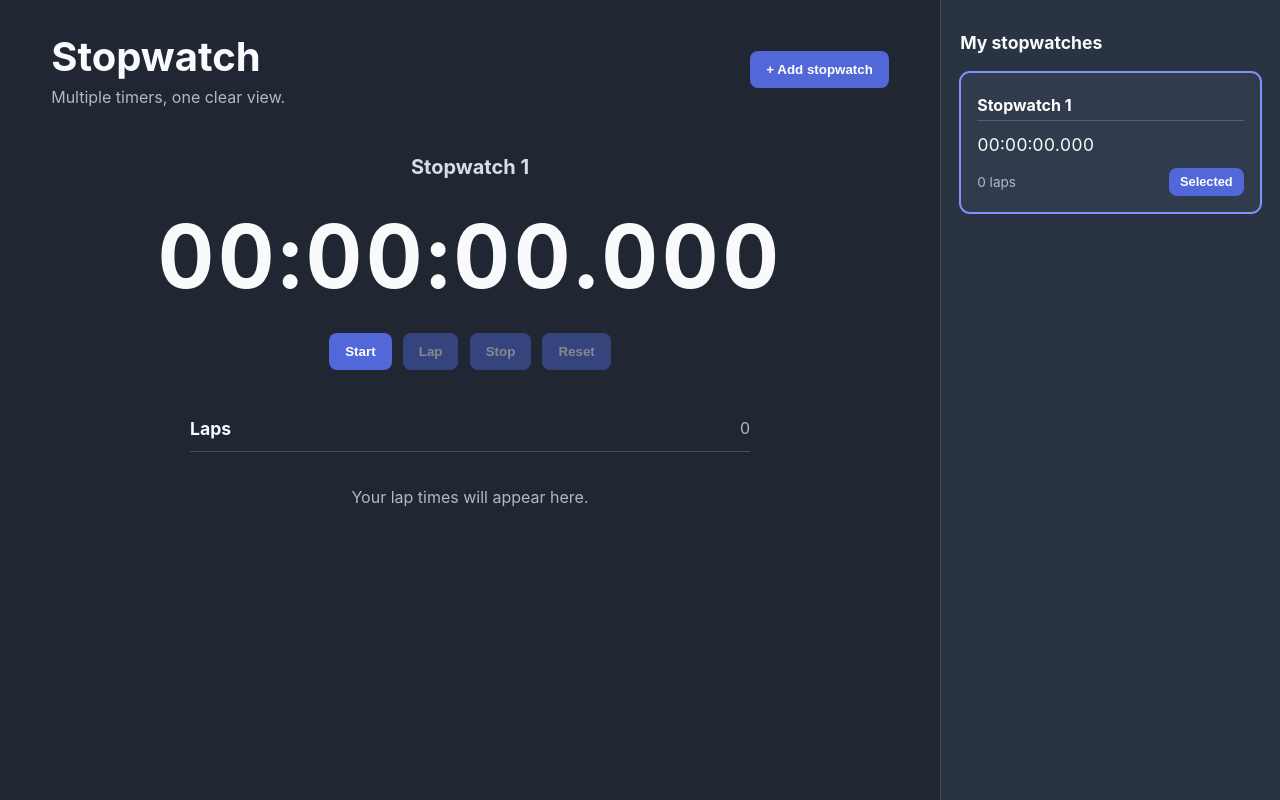
Test: adds another stopwatch
Click the button "+ Add stopwatch" at (820, 69), box [750, 51, 889, 88]
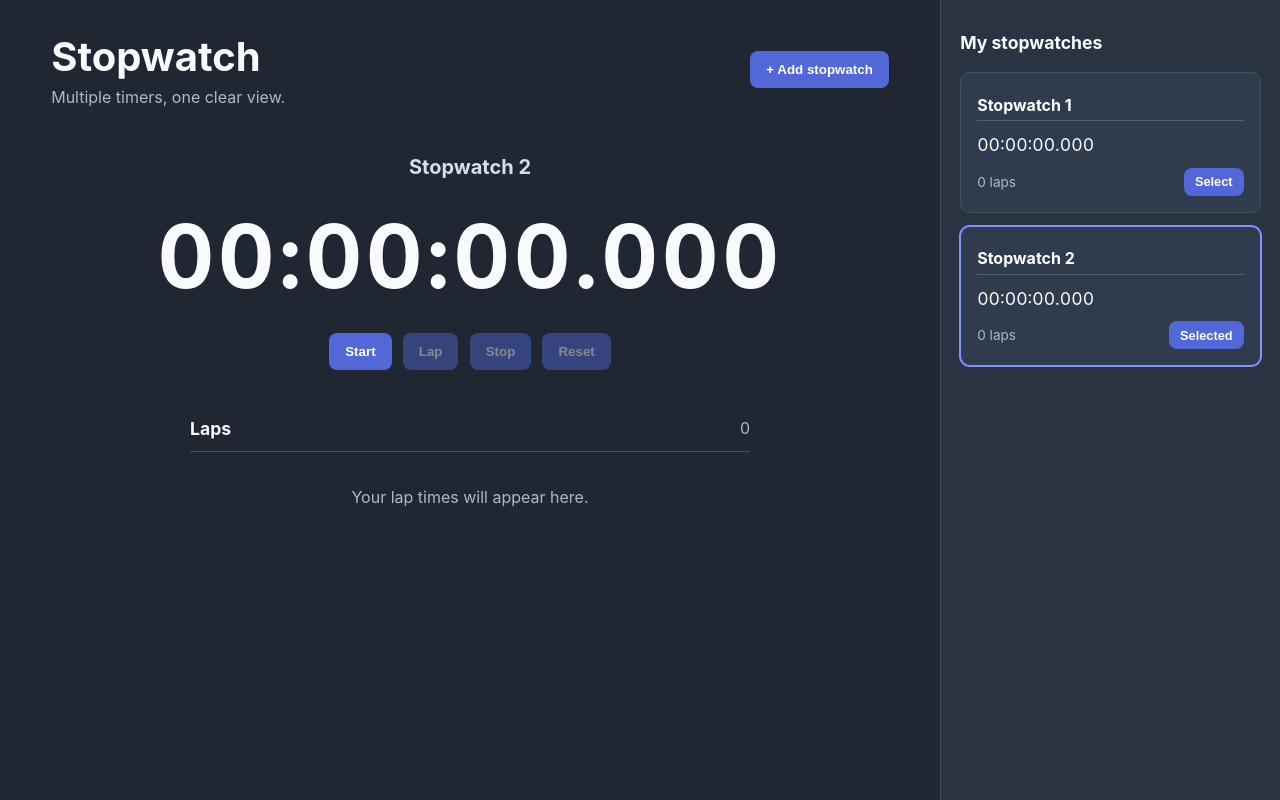
Now the 2nd field showing "Stopwatch 2" is shown, box [977, 242, 1244, 275]
